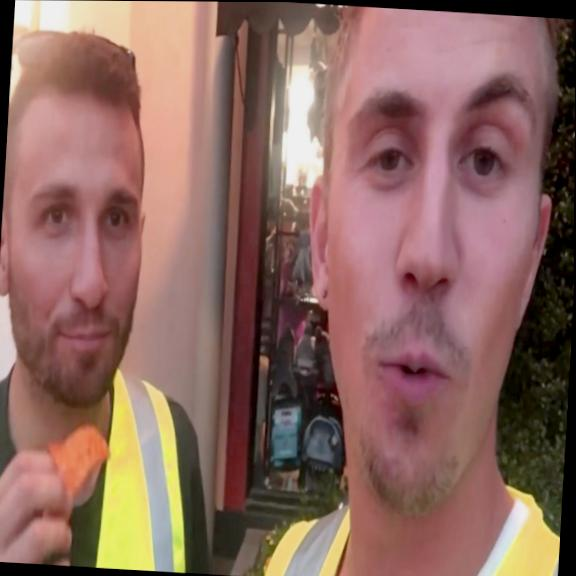safety_vest: (0, 361, 198, 572), (259, 468, 563, 576)
